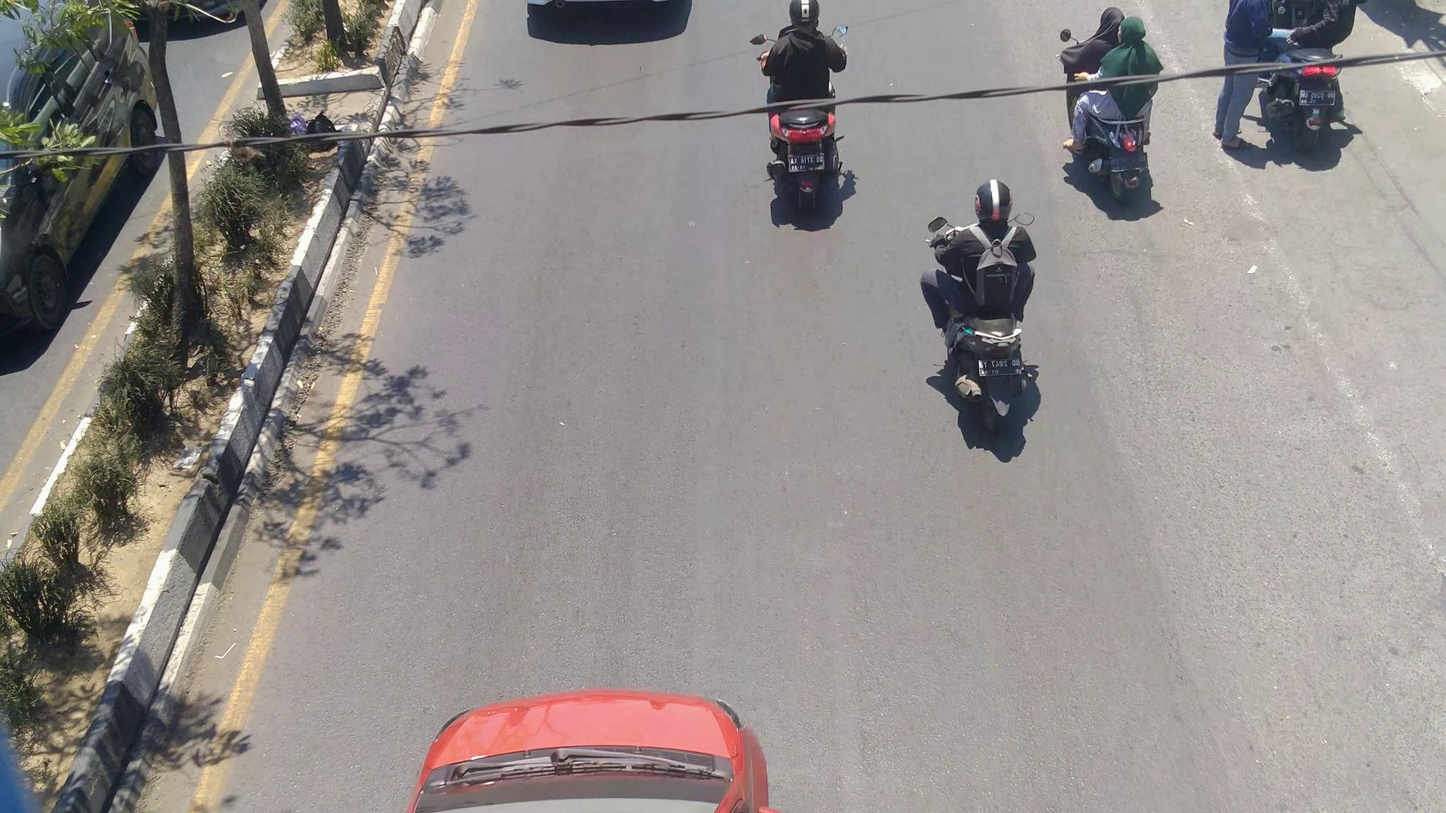Helmet: (971, 177, 1019, 228), (785, 0, 826, 30)
bike: (926, 204, 1043, 439), (750, 23, 854, 209), (1058, 25, 1155, 206), (1254, 0, 1349, 154)
no-helmet: (1115, 13, 1151, 47), (1097, 4, 1126, 41)
rider: (919, 178, 1041, 344), (1065, 13, 1155, 151), (759, 1, 849, 105)
